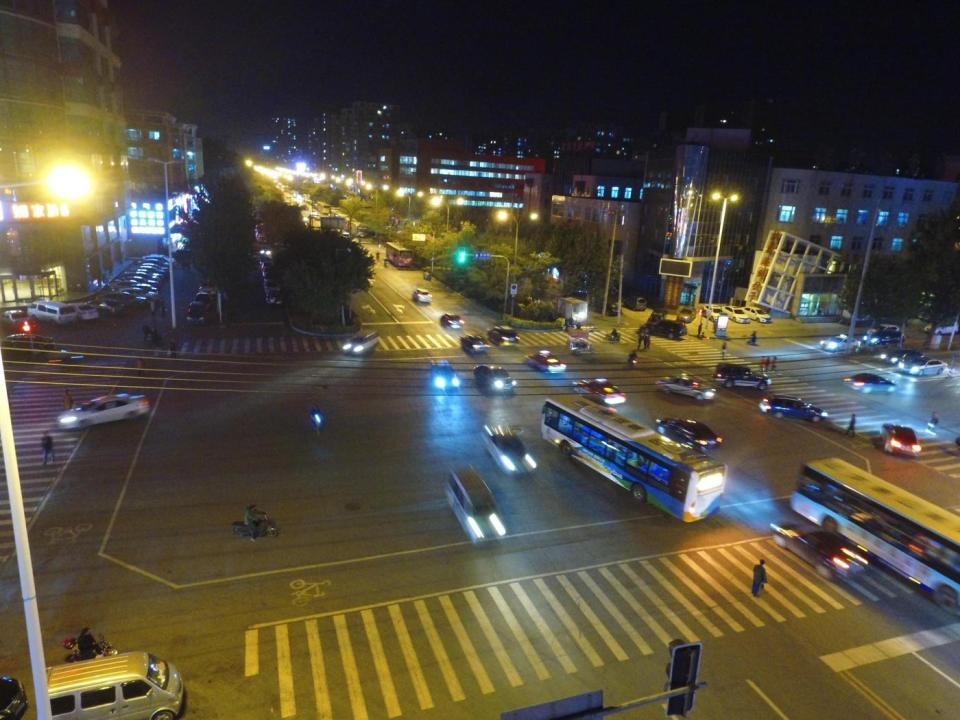bus: (790, 458, 960, 615), (542, 395, 726, 522), (384, 241, 413, 267), (317, 200, 330, 213)
car: (771, 515, 866, 580), (446, 466, 507, 546), (480, 423, 537, 477), (60, 394, 151, 427), (657, 414, 722, 453), (761, 394, 827, 421), (572, 378, 628, 408), (654, 375, 713, 401), (880, 423, 921, 457), (0, 674, 27, 720), (476, 364, 516, 395), (846, 372, 894, 395), (1, 333, 53, 353), (102, 290, 148, 310), (431, 360, 460, 390), (524, 352, 566, 372), (640, 320, 685, 338), (866, 326, 905, 346), (818, 335, 860, 353), (127, 266, 168, 283), (68, 300, 98, 323), (903, 360, 945, 375), (120, 276, 159, 292), (188, 298, 208, 329), (2, 309, 32, 329), (881, 350, 923, 364), (722, 304, 751, 324), (48, 350, 84, 366), (110, 281, 154, 294), (746, 304, 776, 323), (464, 332, 489, 354), (94, 299, 127, 315), (130, 263, 168, 275), (492, 326, 517, 344), (927, 321, 959, 335), (142, 254, 175, 267), (138, 258, 169, 271), (705, 304, 727, 322), (440, 312, 462, 330), (595, 301, 621, 315), (414, 290, 436, 305), (678, 304, 695, 323), (868, 322, 899, 332), (650, 306, 669, 321), (198, 292, 212, 311), (200, 278, 214, 296), (266, 290, 282, 305), (262, 277, 276, 290), (261, 260, 272, 273), (259, 247, 271, 256), (257, 234, 270, 242), (310, 200, 316, 205), (286, 194, 292, 198), (315, 216, 321, 219)
truck: (552, 297, 587, 324)
van: (42, 653, 182, 720), (716, 363, 771, 391), (27, 299, 77, 326), (342, 330, 379, 357), (624, 296, 646, 312)
